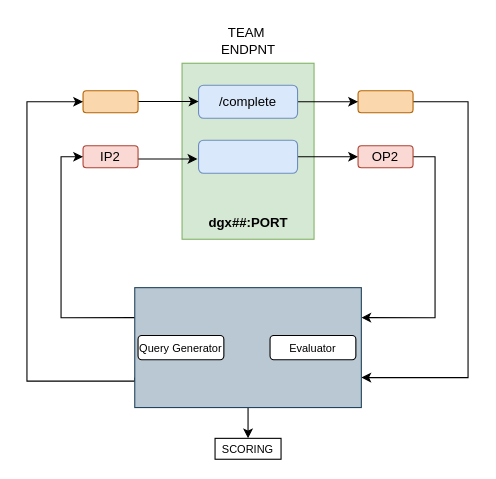
Image size: 496x479. Some labels were removed from this diagram. Each missing label, with the box of its shape:
/reset: (197, 139, 298, 173)
IP1: (82, 90, 138, 113)
OP1: (357, 90, 413, 113)
